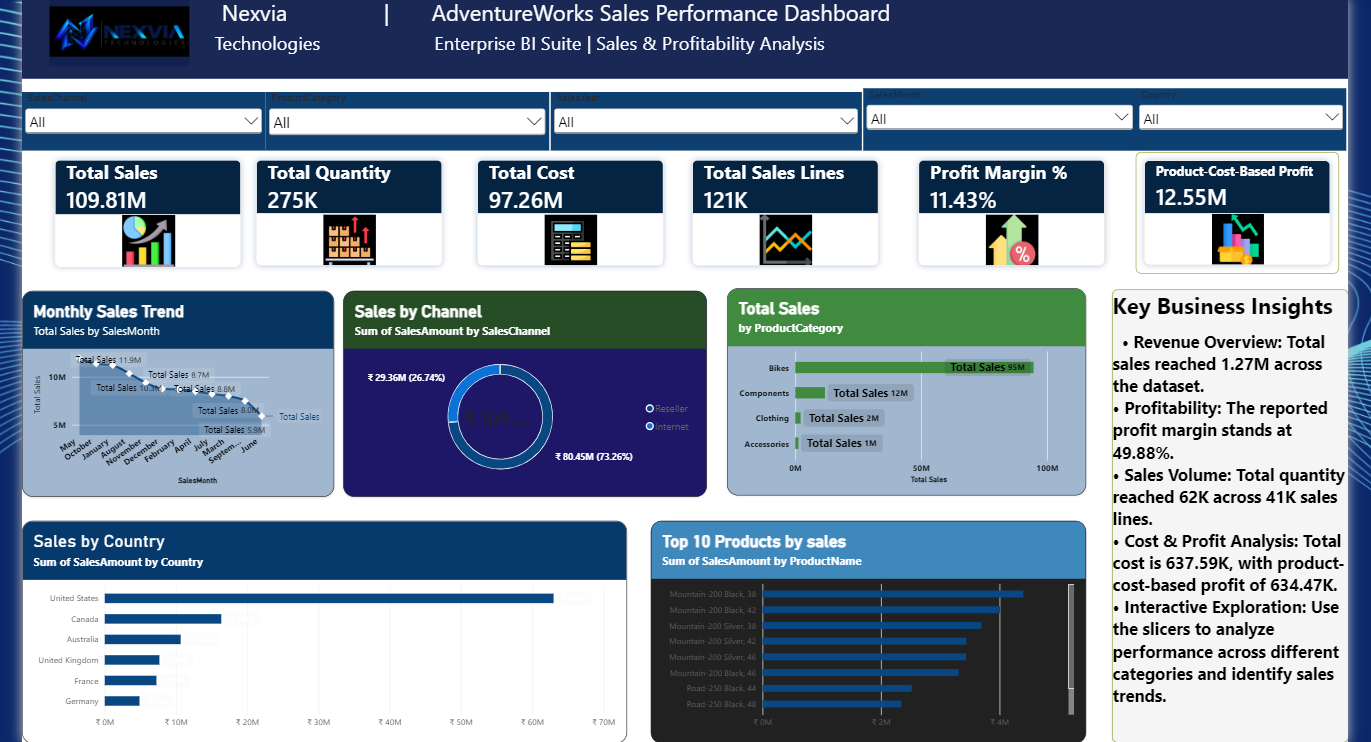

This screenshot's page, from the dashboard's own definition file:
{"tool":"powerbi","page":{"name":"Dashboard","canvas":[1920,1080],"ordinal":0},"visuals":[{"type":"textbox","box":[0,0,1920,118],"z":0},{"type":"image","box":[40,0,202.5,100],"z":1000},{"type":"cardVisual","fields":{"Data":["vw_CombinedSalesSummary.Total Sales"]},"box":[36,224,292,178],"z":2000},{"type":"cardVisual","fields":{"Data":["vw_CombinedSalesSummary.Total Quantity"]},"box":[328,224,292,176],"z":3000},{"type":"cardVisual","fields":{"Data":["vw_CombinedSalesSummary.Total Cost"]},"box":[648,224,292,176],"z":4000},{"type":"cardVisual","fields":{"Data":["vw_CombinedSalesSummary.Product-Cost-Based Profit"]},"box":[1612,224,294,176],"z":5000},{"type":"cardVisual","fields":{"Data":["vw_CombinedSalesSummary.Profit Margin %"]},"box":[1286,224,292,176],"z":6000},{"type":"cardVisual","fields":{"Data":["vw_CombinedSalesSummary.Total Sales Lines"]},"box":[960,224,292,176],"z":7000},{"type":"lineChart","title":"Monthly Sales Trend","fields":{"Category":["vw_CombinedSalesSummary.SalesMonth"],"Y":["vw_CombinedSalesSummary.Total Sales"]},"box":[0,425,452,298],"z":7001},{"type":"clusteredBarChart","fields":{"Category":["vw_CombinedSalesSummary.ProductCategory"],"Y":["vw_CombinedSalesSummary.Total Sales"]},"box":[1020,422.5,520,300],"z":7003},{"type":"clusteredBarChart","title":"Sales by Country","fields":{"Category":["vw_CombinedSalesSummary.Country"],"Y":["Sum(vw_CombinedSalesSummary.SalesAmount)"]},"box":[0,758,876,322],"z":7004},{"type":"donutChart","title":"Sales by Channel","fields":{"Category":["vw_CombinedSalesSummary.SalesChannel"],"Y":["Sum(vw_CombinedSalesSummary.SalesAmount)"]},"box":[465,425,526,298],"z":7005},{"type":"clusteredBarChart","title":"Top 10 Products by sales","fields":{"Category":["vw_CombinedSalesSummary.ProductName"],"Y":["Sum(vw_CombinedSalesSummary.SalesAmount)"]},"box":[910,758,630,322],"z":7006},{"type":"slicer","fields":{"Values":["vw_CombinedSalesSummary.SalesYear"]},"box":[765,137.5,450,85],"z":7007},{"type":"slicer","fields":{"Values":["vw_CombinedSalesSummary.SalesChannel"]},"box":[0,137.5,352.5,85],"z":7008},{"type":"slicer","fields":{"Values":["vw_CombinedSalesSummary.ProductCategory"]},"box":[352.5,137.5,410,85],"z":7009},{"type":"slicer","fields":{"Values":["vw_CombinedSalesSummary.SalesMonth"]},"box":[1217.5,132.5,395,90],"z":7010},{"type":"slicer","fields":{"Values":["vw_CombinedSalesSummary.Country"]},"box":[1612.5,132.5,305,90],"z":7011},{"type":"textbox","title":"Key Business Insights","box":[1578,424,342,656],"z":7012}]}

Visuals, with their boxes in screenshot pixels (x1, y1, x2, y2):
textbox: (0, 0, 1350, 76)
image: (28, 0, 170, 63)
cardVisual - vw_CombinedSalesSummary.Total Sales: (25, 150, 231, 275)
cardVisual - vw_CombinedSalesSummary.Total Quantity: (231, 150, 436, 274)
cardVisual - vw_CombinedSalesSummary.Total Cost: (456, 150, 661, 274)
cardVisual - vw_CombinedSalesSummary.Product-Cost-Based Profit: (1133, 150, 1340, 274)
cardVisual - vw_CombinedSalesSummary.Profit Margin %: (904, 150, 1109, 274)
cardVisual - vw_CombinedSalesSummary.Total Sales Lines: (675, 150, 880, 274)
"Monthly Sales Trend" lineChart: (0, 292, 318, 501)
clusteredBarChart - vw_CombinedSalesSummary.ProductCategory x vw_CombinedSalesSummary.Total Sales: (717, 290, 1083, 501)
"Sales by Country" clusteredBarChart: (0, 526, 616, 741)
"Sales by Channel" donutChart: (327, 292, 697, 501)
"Top 10 Products by sales" clusteredBarChart: (640, 526, 1083, 741)
slicer - vw_CombinedSalesSummary.SalesYear: (538, 90, 854, 149)
slicer - vw_CombinedSalesSummary.SalesChannel: (0, 90, 248, 149)
slicer - vw_CombinedSalesSummary.ProductCategory: (248, 90, 536, 149)
slicer - vw_CombinedSalesSummary.SalesMonth: (856, 86, 1134, 149)
slicer - vw_CombinedSalesSummary.Country: (1134, 86, 1348, 149)
"Key Business Insights" textbox: (1109, 291, 1350, 741)
